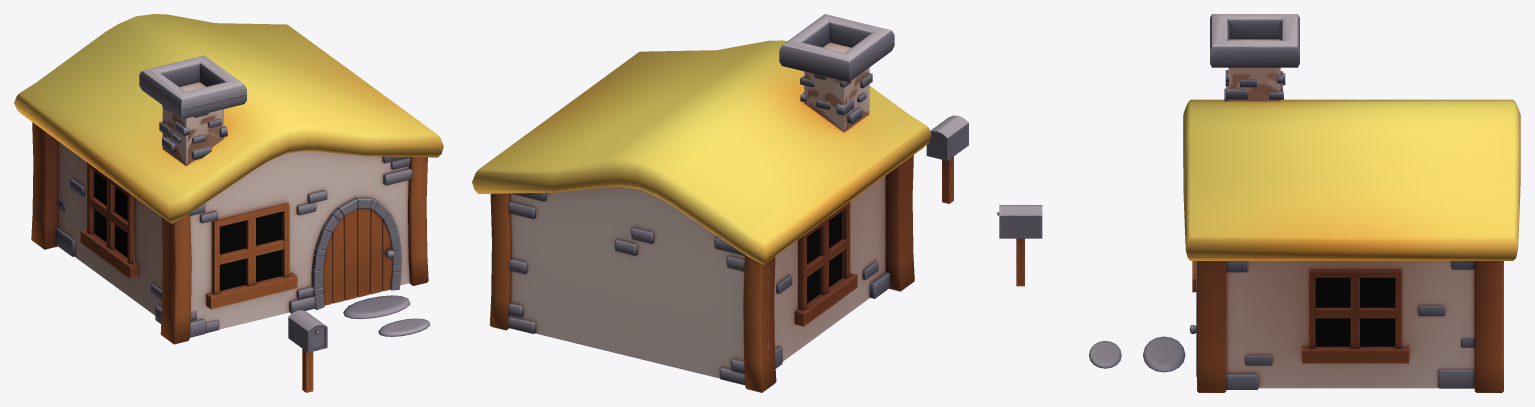
The model's file is House_Bear.fbx.
The picture shows the model from 3 angles, left to right: view 1: azimuth 30°, elevation 25°; view 2: azimuth 150°, elevation 25°; view 3: azimuth 270°, elevation 25°; orthographic projection. The views are drawn at different scales.
Visible parts, largest first — view 1: Cube; view 2: Cube; view 3: Cube.
Boxes of the visible parts, x1,y1,x2,y2 form: Cube: (14,14,443,392); Cube: (472,14,968,392); Cube: (997,14,1520,392).
Bounding box in the file's own units: 203 × 168 × 312.
1 material, 1 textured.
